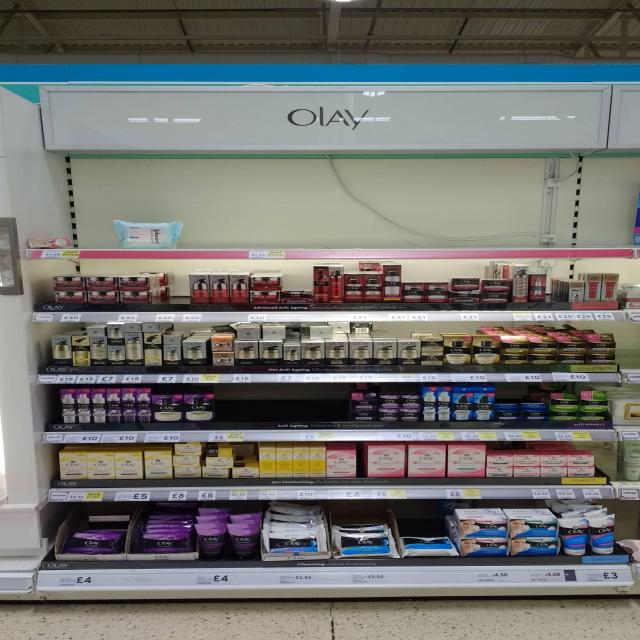empty: (185, 204, 632, 247), (218, 388, 347, 422), (71, 209, 114, 250), (617, 331, 639, 365), (171, 272, 189, 305)
